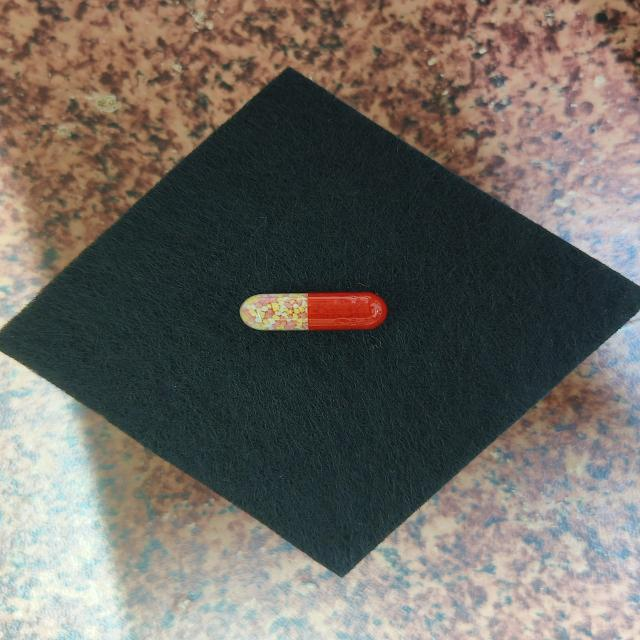Intact Capsule: (240, 292, 387, 331)
